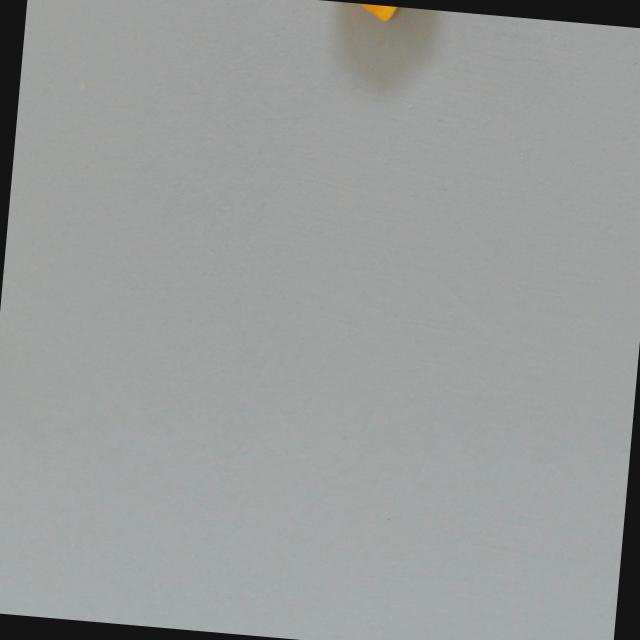pelicula: (320, 0, 442, 28)
